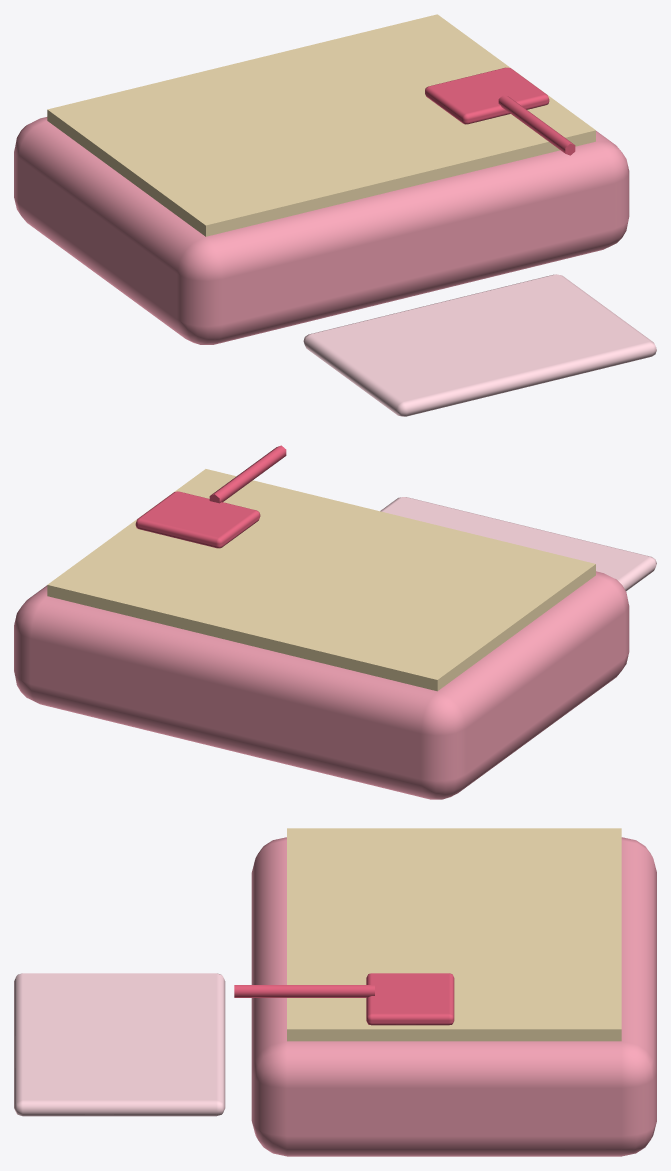
The model's file is litter.glb.
The picture shows the model from 3 angles, top to bottom: view 1: azimuth 30°, elevation 25°; view 2: azimuth 150°, elevation 25°; view 3: azimuth 270°, elevation 25°; orthographic projection. The views are drawn at different scales.
Size of the model in its own units: 0.62 by 0.178 by 0.73.
